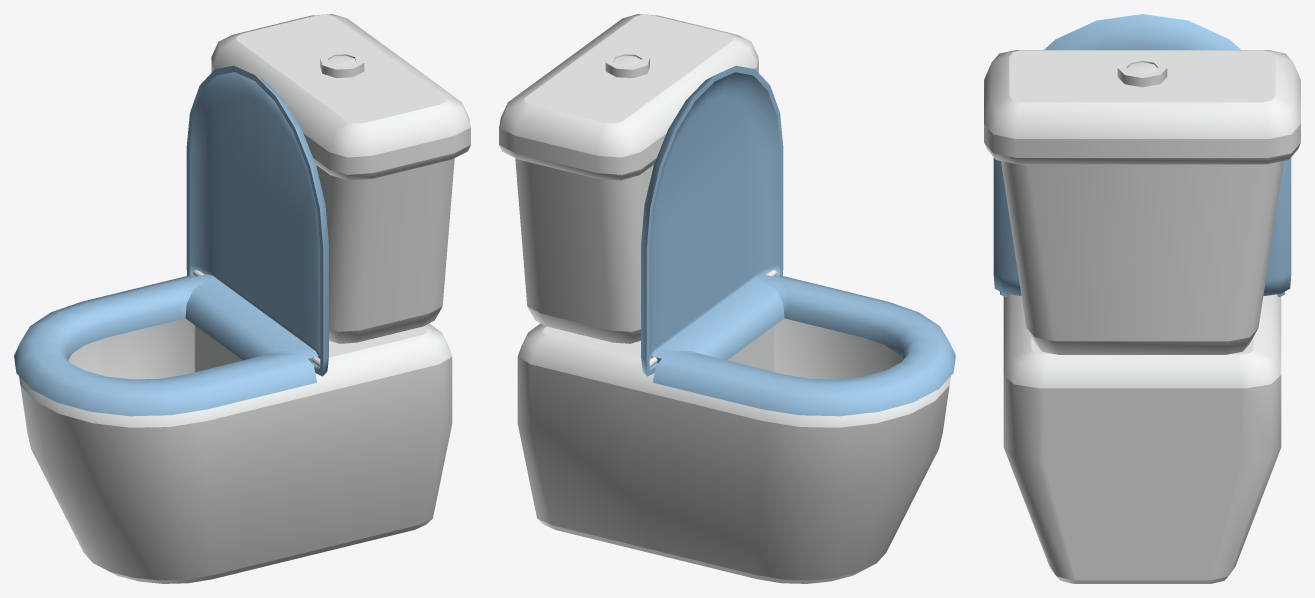
File: Toilet.fbx
3 views of the same model, side by side, from view 1: azimuth 30°, elevation 25°; view 2: azimuth 150°, elevation 25°; view 3: azimuth 270°, elevation 25° (orthographic). The views are drawn at different scales.
Parts seen in each view (by area): view 1: Toilet; view 2: Toilet; view 3: Toilet.
Boxes of the visible parts, bbox=[...] form: Toilet: bbox=[14, 14, 470, 583]; Toilet: bbox=[499, 14, 955, 583]; Toilet: bbox=[984, 14, 1300, 583].
Size of the model in its own units: 0.81 by 0.9259 by 0.5366.
